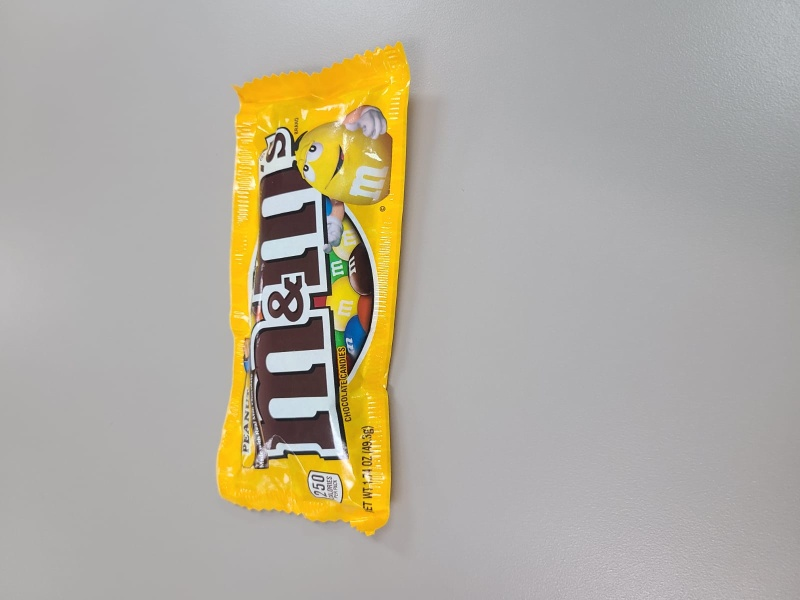m&m: (216, 42, 416, 536)
